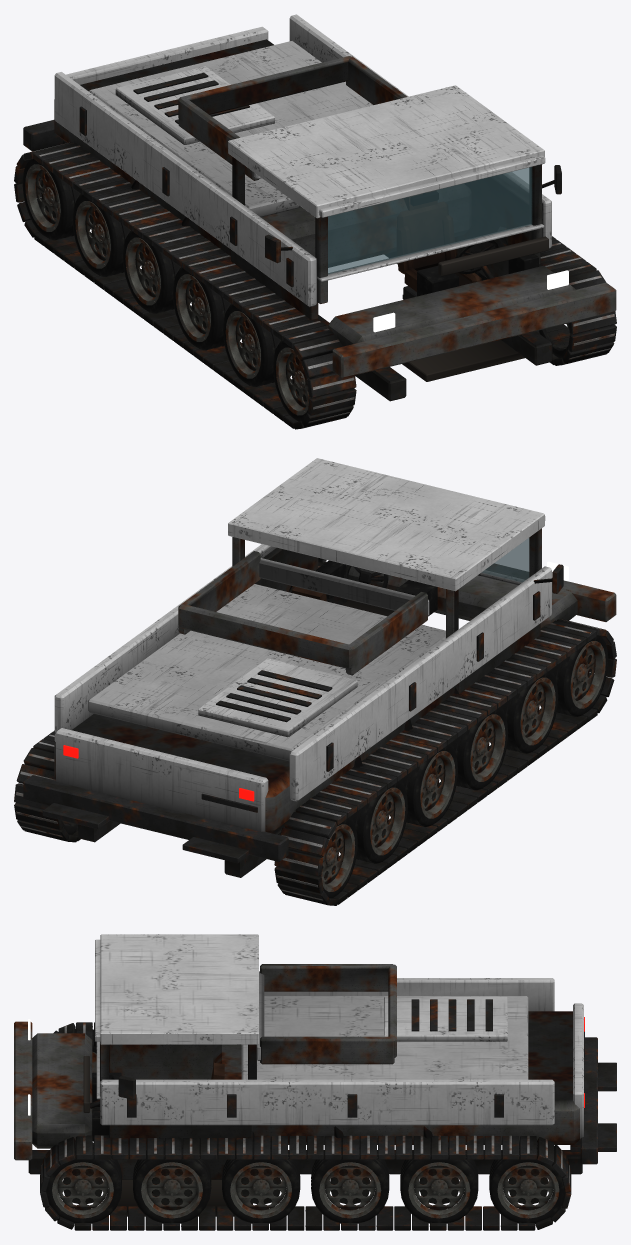
The model's file is player_tank_t1.glb.
3 renders of one model, top to bottom at view 1: azimuth 30°, elevation 25°; view 2: azimuth 150°, elevation 25°; view 3: azimuth 270°, elevation 25°, orthographic. The views are drawn at different scales.
Parts seen in each view (by area): view 1: body, part_track_R, panel_door_R, panel_windshield, panel_bumper_F, panel_turret, panel_hood, part_track_L, part_roadwheel_R0, part_roadwheel_R2, part_roadwheel_R1, part_roadwheel_R3 (+5 smaller); view 2: body, part_track_R, panel_door_R, panel_turret, panel_trunk, panel_hood, panel_bumper_R, panel_door_L, part_roadwheel_R2, part_roadwheel_R0, part_roadwheel_R3, part_roadwheel_R1 (+5 smaller); view 3: body, panel_door_L, part_track_L, panel_turret, panel_hood, part_roadwheel_L2, part_roadwheel_L1, part_roadwheel_L0, part_roadwheel_L3, wheel_RL, wheel_FL, panel_door_R (+4 smaller).
Boxes of the visible parts, left/top/right/bottom form: body: left=54, top=39, right=575, bottom=401; part_track_R: left=14, top=142, right=356, bottom=429; panel_door_R: left=54, top=72, right=316, bottom=306; panel_windshield: left=328, top=167, right=532, bottom=274; panel_bumper_F: left=332, top=282, right=616, bottom=378; panel_turret: left=178, top=56, right=407, bottom=180; panel_hood: left=115, top=66, right=274, bottom=144; part_track_L: left=536, top=236, right=616, bottom=365; part_roadwheel_R0: left=223, top=304, right=296, bottom=386; part_roadwheel_R2: left=122, top=230, right=196, bottom=313; part_roadwheel_R1: left=173, top=267, right=246, bottom=350; part_roadwheel_R3: left=72, top=194, right=145, bottom=276; body: left=42, top=458, right=577, bottom=877; part_track_R: left=274, top=619, right=616, bottom=905; panel_door_R: left=289, top=564, right=563, bottom=801; panel_turret: left=178, top=551, right=429, bottom=675; panel_trunk: left=56, top=728, right=268, bottom=831; panel_hood: left=198, top=658, right=357, bottom=737; panel_bumper_R: left=23, top=775, right=288, bottom=861; panel_door_L: left=54, top=544, right=276, bottom=741; part_roadwheel_R2: left=384, top=744, right=457, bottom=826; part_roadwheel_R0: left=485, top=670, right=558, bottom=753; part_roadwheel_R3: left=334, top=780, right=407, bottom=863; part_roadwheel_R1: left=434, top=707, right=508, bottom=790; body: left=28, top=934, right=616, bottom=1216; panel_door_L: left=100, top=1076, right=554, bottom=1125; part_track_L: left=40, top=1135, right=571, bottom=1230; panel_turret: left=257, top=964, right=396, bottom=1064; panel_hood: left=384, top=996, right=507, bottom=1041; part_roadwheel_L2: left=311, top=1142, right=389, bottom=1223; part_roadwheel_L1: left=222, top=1142, right=300, bottom=1223; part_roadwheel_L0: left=133, top=1142, right=211, bottom=1223; part_roadwheel_L3: left=400, top=1142, right=478, bottom=1223; wheel_RL: left=489, top=1142, right=564, bottom=1223; wheel_FL: left=46, top=1142, right=121, bottom=1223; panel_door_R: left=264, top=978, right=554, bottom=1011.
Size of the model in its own units: 2.88 by 1.89 by 5.55.
Materials: 13 (9 with a texture image).
